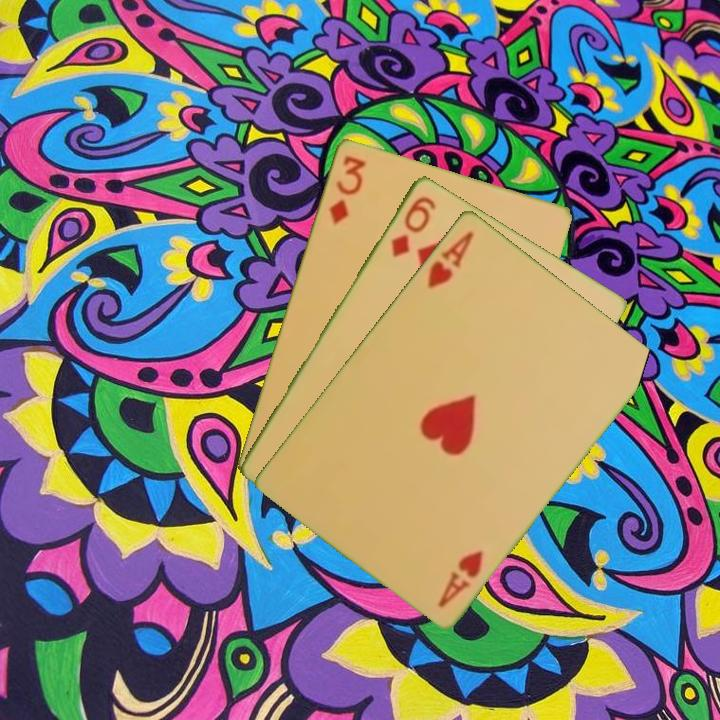3d: (325, 151, 368, 228)
6d: (387, 192, 439, 260)
Ah: (423, 227, 477, 291), (434, 546, 486, 610)
